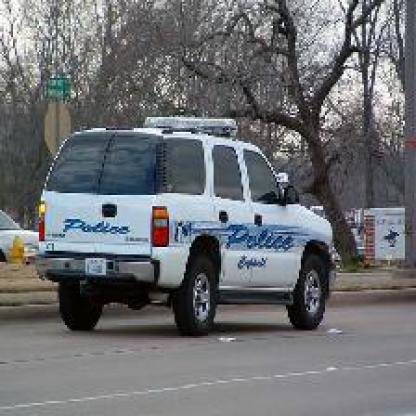emergency: (30, 108, 336, 338)
